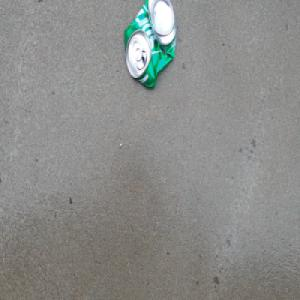SodaCan: (122, 0, 178, 89)
